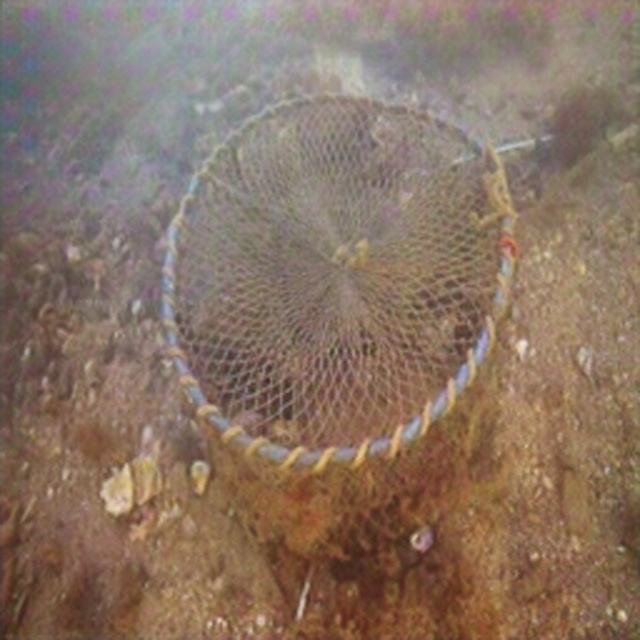mine: (160, 88, 518, 581)
